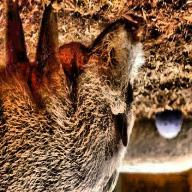boar: (2, 5, 150, 192)
